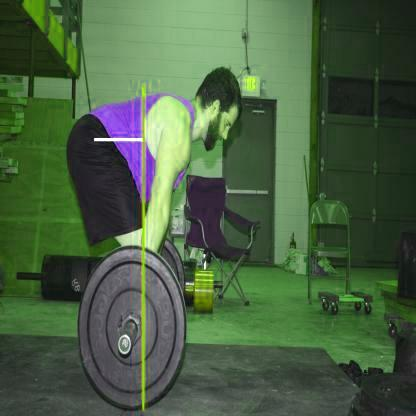Barbell: (113, 334, 132, 359)
